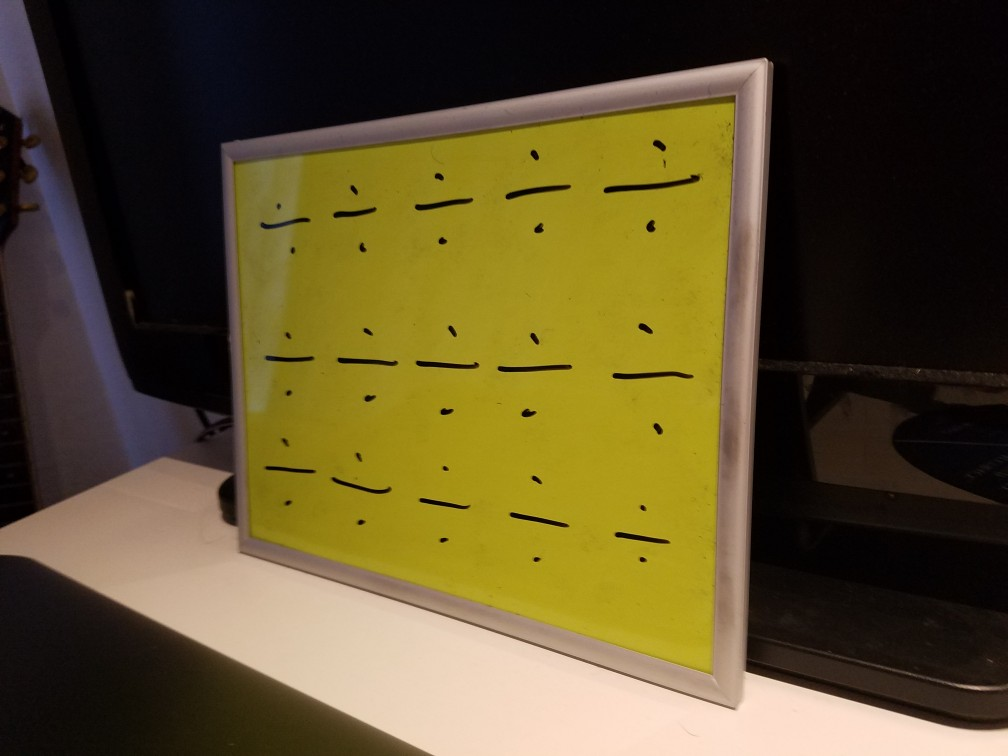div: (592, 312, 705, 445), (595, 132, 710, 238), (491, 313, 580, 438), (498, 458, 583, 580), (405, 313, 487, 429), (406, 451, 485, 557), (493, 140, 577, 239), (324, 313, 400, 412), (600, 493, 680, 581), (405, 163, 482, 252), (328, 435, 393, 536), (320, 174, 392, 260), (260, 428, 320, 520), (252, 188, 321, 263), (258, 322, 321, 403)
